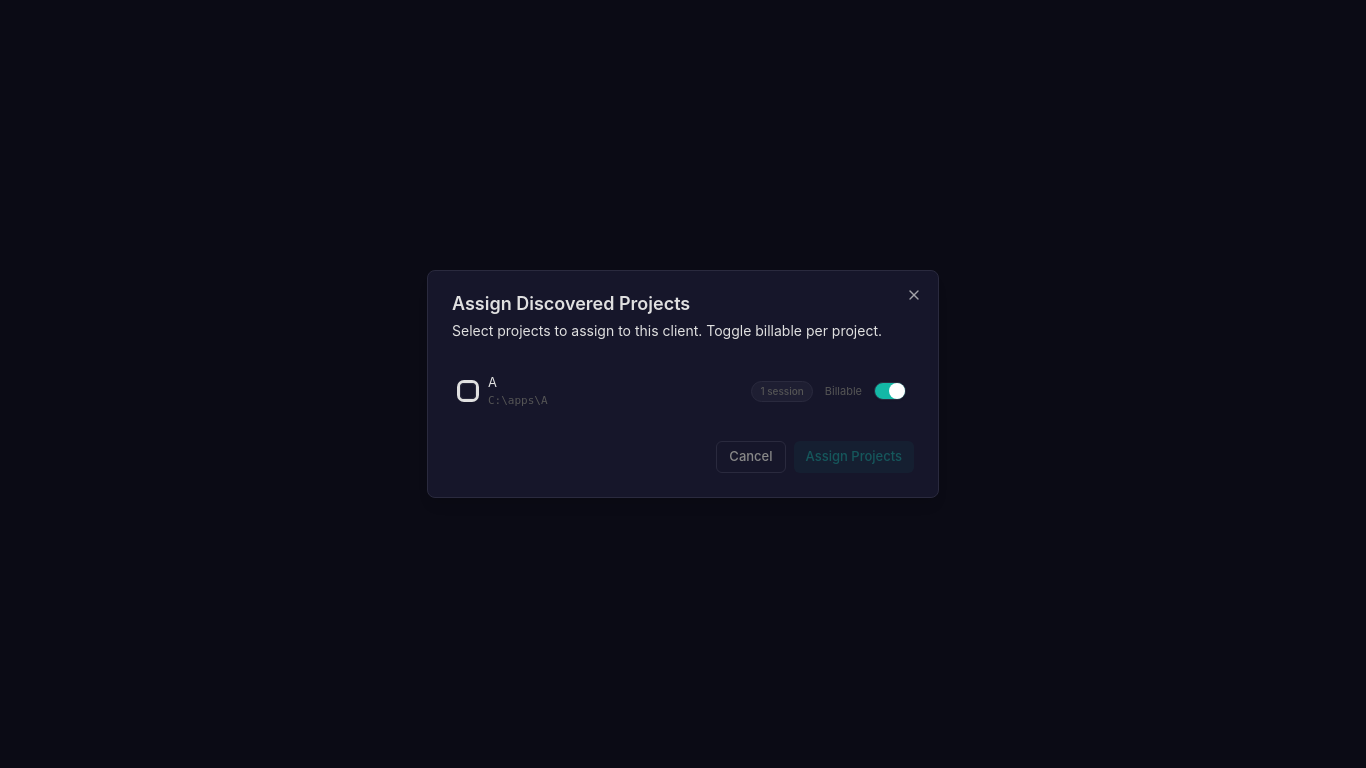
Test: ProjectPicker › can toggle selection off
The image size is (1366, 768).
Click the checkbox named "Select A" at (468, 391), box [460,383,476,399]
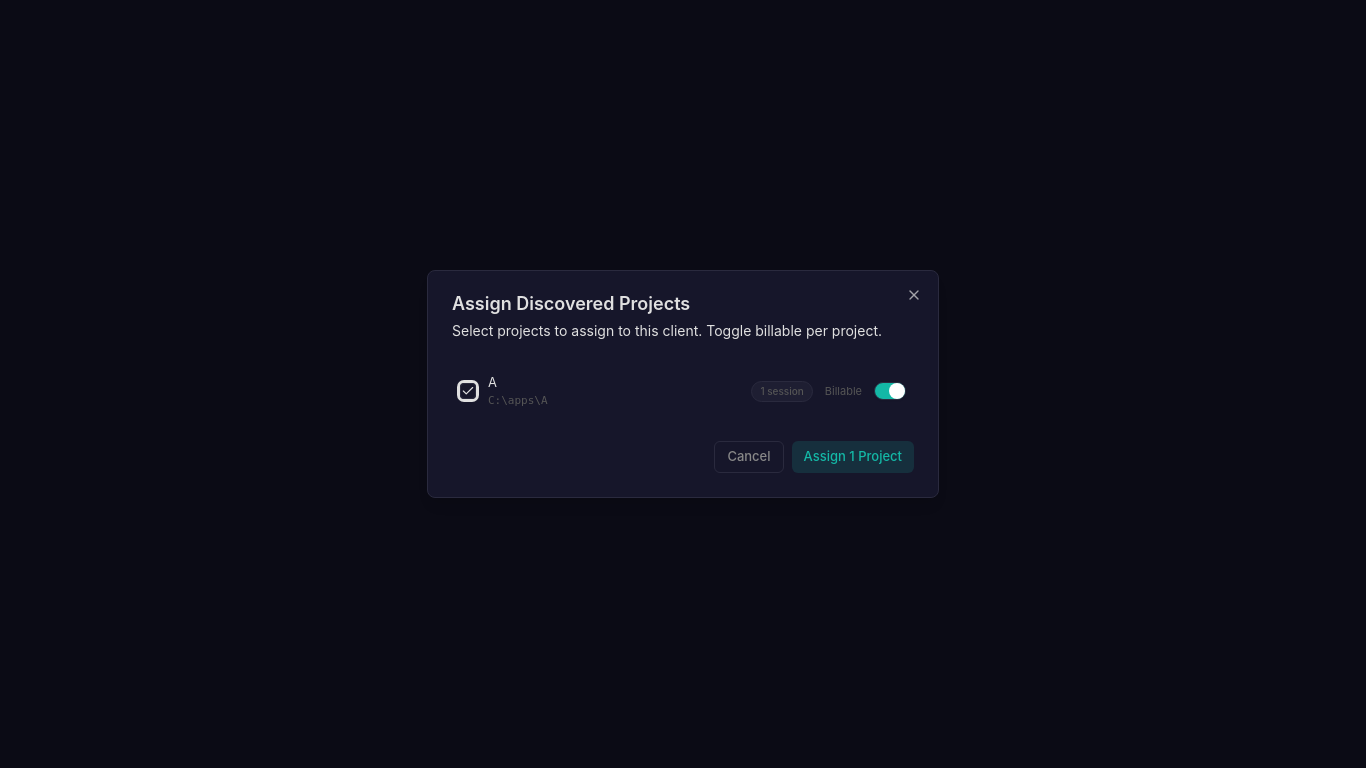
Expected: the button "Assign 1 Project" is enabled, [792,441,914,473]
Click the checkbox named "Select A" at (468, 391), box [460,383,476,399]
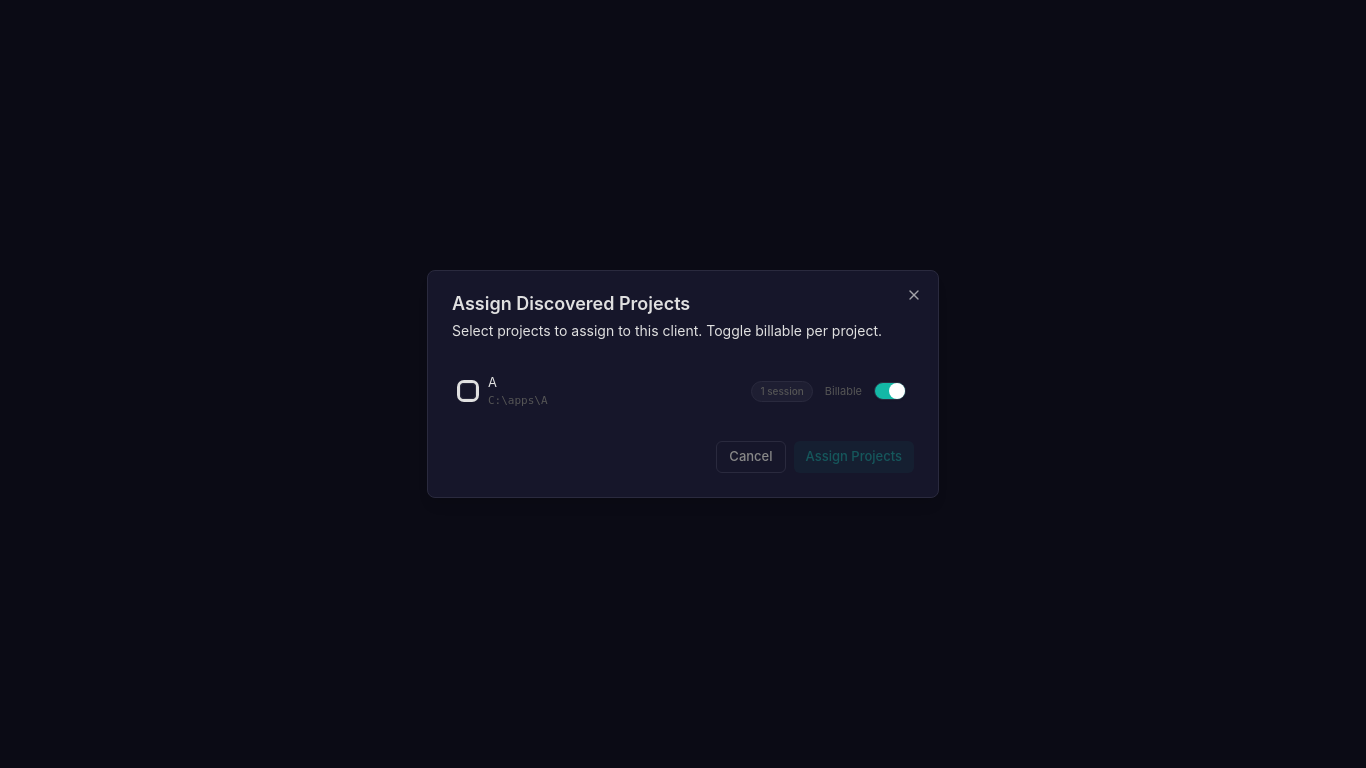
Expected: the button "Assign Projects" is disabled, [794,441,914,473]
